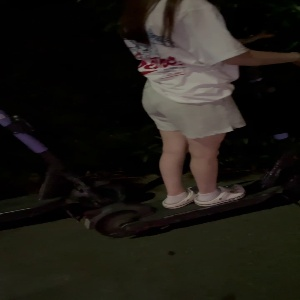human on a scooter: (82, 1, 300, 245)
